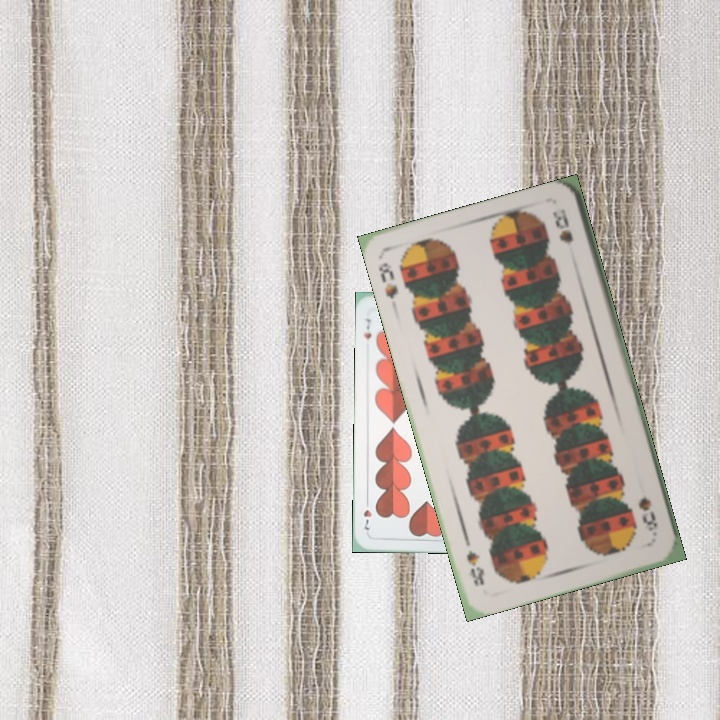H7: (360, 315, 374, 341)
S8: (634, 493, 660, 539), (374, 258, 401, 302)
